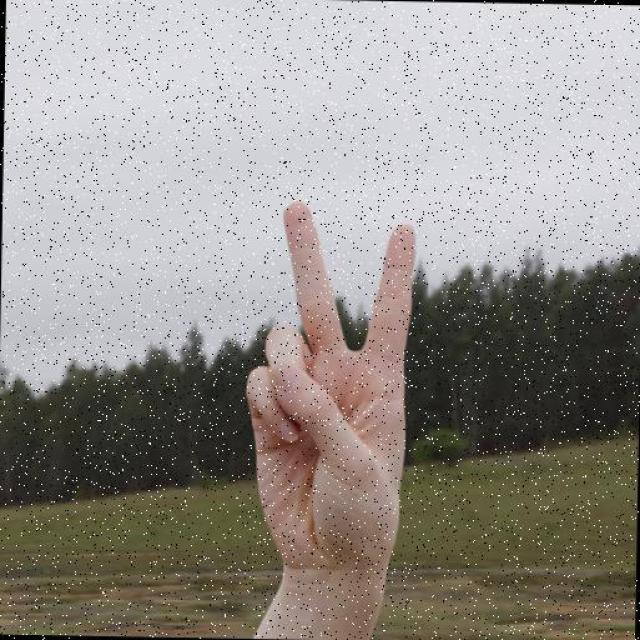V: (239, 193, 423, 592)
